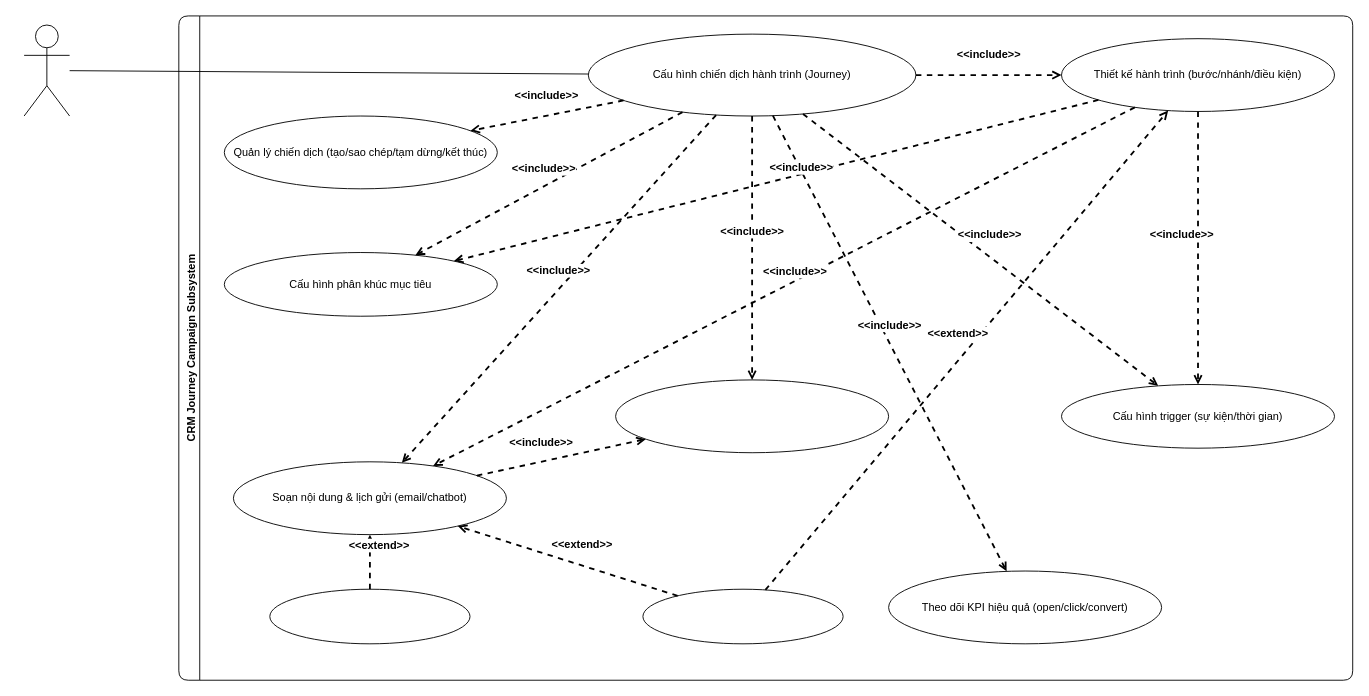
Image size: 1369x696. Some labels were removed from this diagram. The shapes that lost their labels are listed below. From the top down, each one's centre as x and y in pixels, then its label:
the point at 46,70: Quản trị viên
the point at 752,416: Tích hợp kênh gửi (SMTP/API nhà cung cấp)
the point at 369,616: Bật A/B testing
the point at 742,616: Kiểm thử & xem trước
